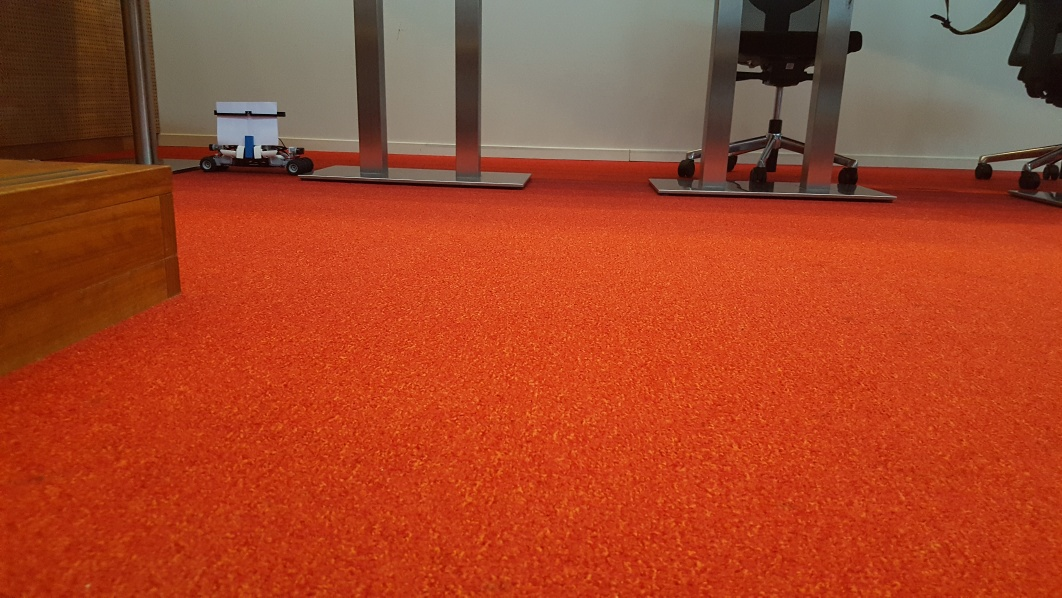car: (196, 100, 315, 178)
